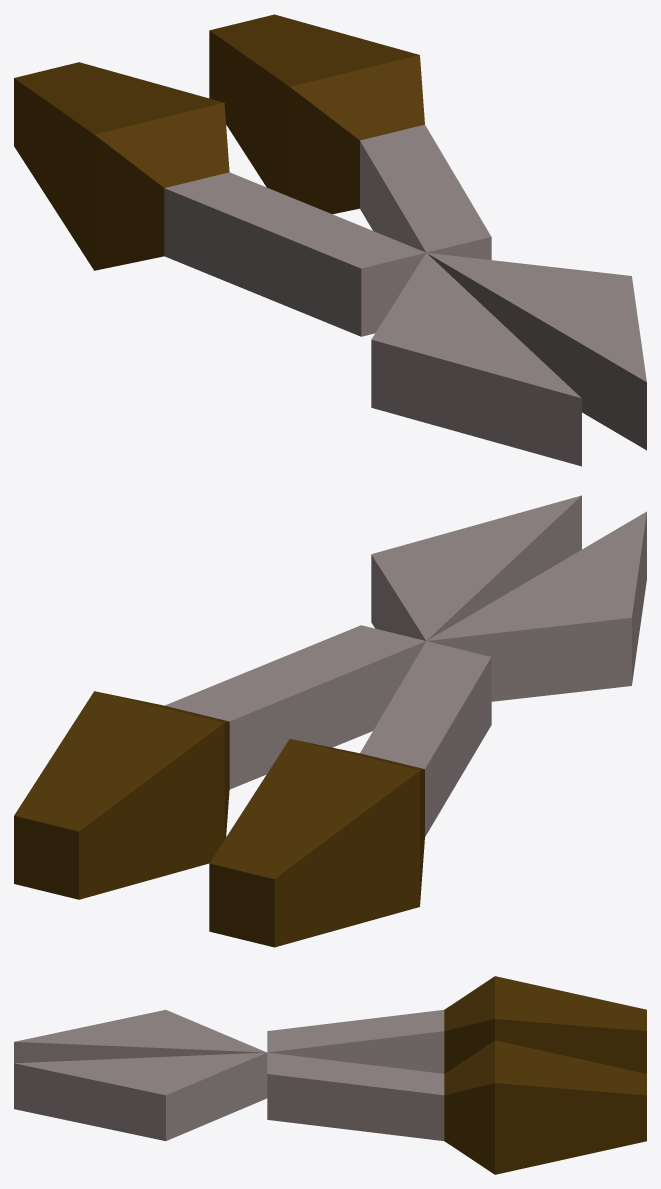
Rendered from inv_shears.obj.
3 renders of one model, top to bottom at view 1: azimuth 30°, elevation 25°; view 2: azimuth 150°, elevation 25°; view 3: azimuth 270°, elevation 25°, orthographic. The views are drawn at different scales.
Size of the model in its own units: 0.1562 by 0.0625 by 0.3906.
